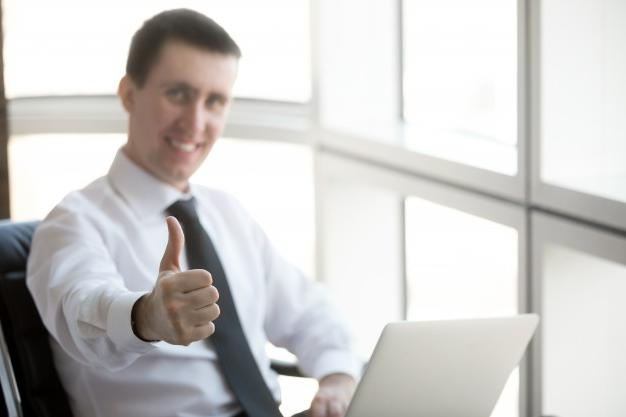thumbsup: (161, 215, 221, 346)
